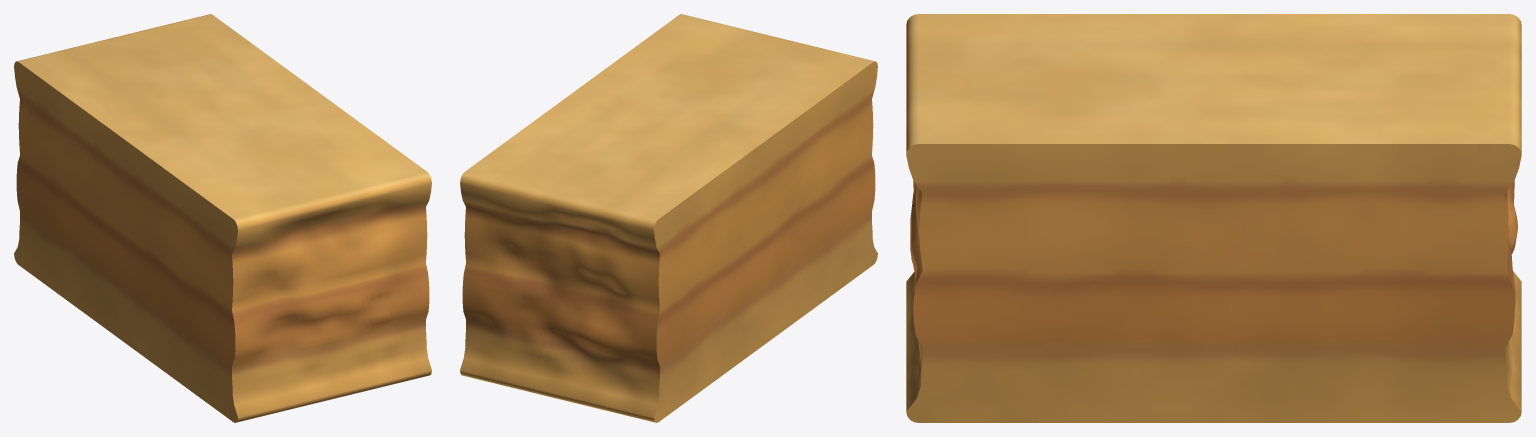
File: SD_G09_Cliff_Extension.fbx
3 renders of one model, left to right at view 1: azimuth 30°, elevation 25°; view 2: azimuth 150°, elevation 25°; view 3: azimuth 270°, elevation 25°, orthographic. The views are drawn at different scales.
Parts seen in each view (by area): view 1: SD_G09_Cliff_Extension; view 2: SD_G09_Cliff_Extension; view 3: SD_G09_Cliff_Extension.
Boxes of the visible parts, bbox=[...] form: SD_G09_Cliff_Extension: bbox=[14, 14, 431, 422]; SD_G09_Cliff_Extension: bbox=[460, 14, 877, 422]; SD_G09_Cliff_Extension: bbox=[906, 14, 1521, 422].
Size of the model in its own units: 2 by 2 by 4.
